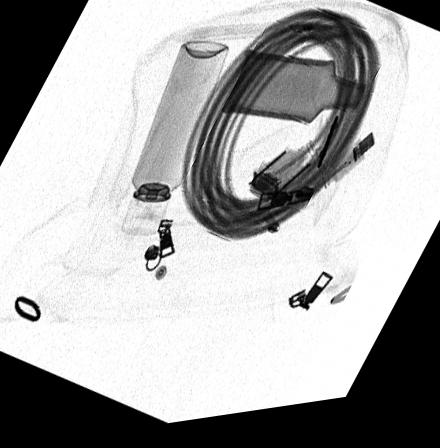Sprayer: (120, 45, 228, 240)
